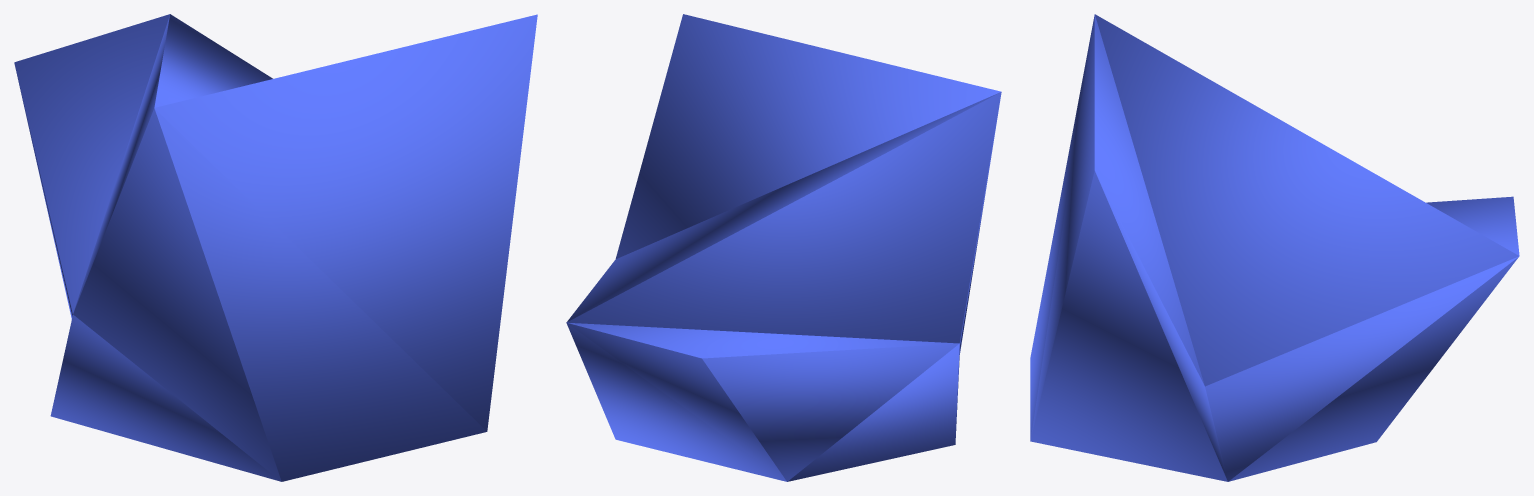
3 renders of one model, left to right at view 1: azimuth 30°, elevation 25°; view 2: azimuth 150°, elevation 25°; view 3: azimuth 270°, elevation 25°, orthographic. The views are drawn at different scales.
Parts seen in each view (by area): view 1: Mesh_0; view 2: Mesh_0; view 3: Mesh_0.
Boxes of the visible parts, bbox=[...] form: Mesh_0: bbox=[14, 14, 537, 481]; Mesh_0: bbox=[566, 14, 1001, 481]; Mesh_0: bbox=[1030, 14, 1519, 481].
Bounding box in the file's own units: 0.2083 × 0.1695 × 0.2445.
